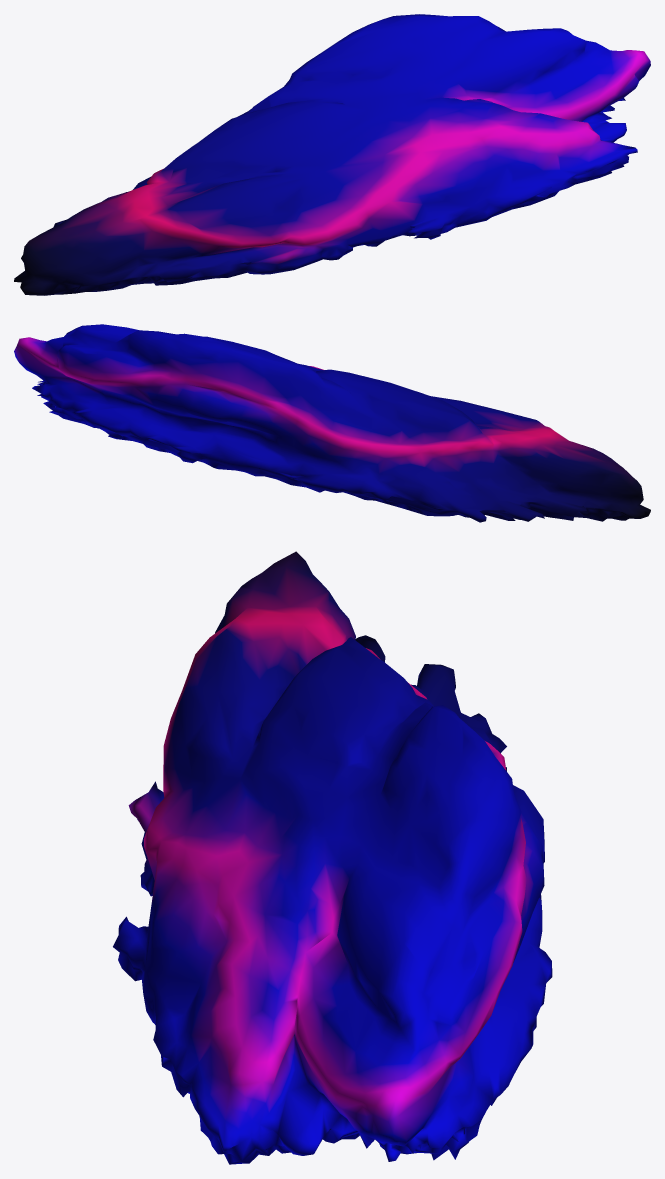
The model's file is silver_vein-u6-cold-lod0.gltf.
3 views of the same model, one above another, from view 1: azimuth 30°, elevation 25°; view 2: azimuth 150°, elevation 25°; view 3: azimuth 270°, elevation 25° (orthographic). The views are drawn at different scales.
Visible parts, largest first — view 1: silver_vein-u6-cold-lod0; view 2: silver_vein-u6-cold-lod0; view 3: silver_vein-u6-cold-lod0.
Boxes of the visible parts, x1=… form: silver_vein-u6-cold-lod0: x1=14, y1=14, x2=650, y2=295; silver_vein-u6-cold-lod0: x1=14, y1=324, x2=650, y2=522; silver_vein-u6-cold-lod0: x1=113, y1=551, x2=552, y2=1164.
Size of the model in its own units: 2.48 by 0.4884 by 0.7779.
